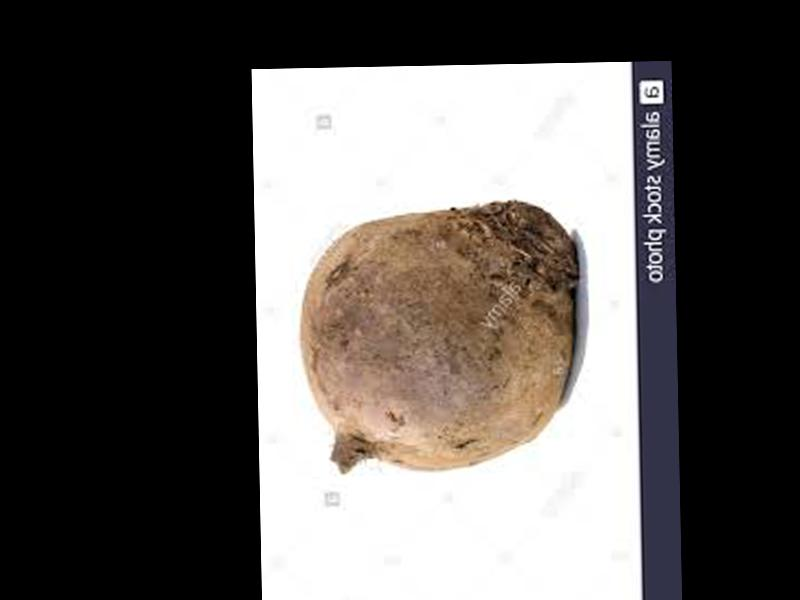Beet: (298, 201, 581, 475)
